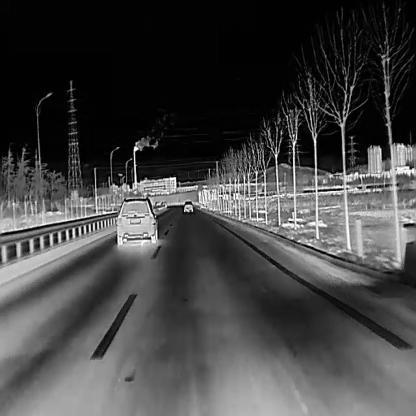car: (115, 195, 157, 244), (182, 199, 193, 212)
